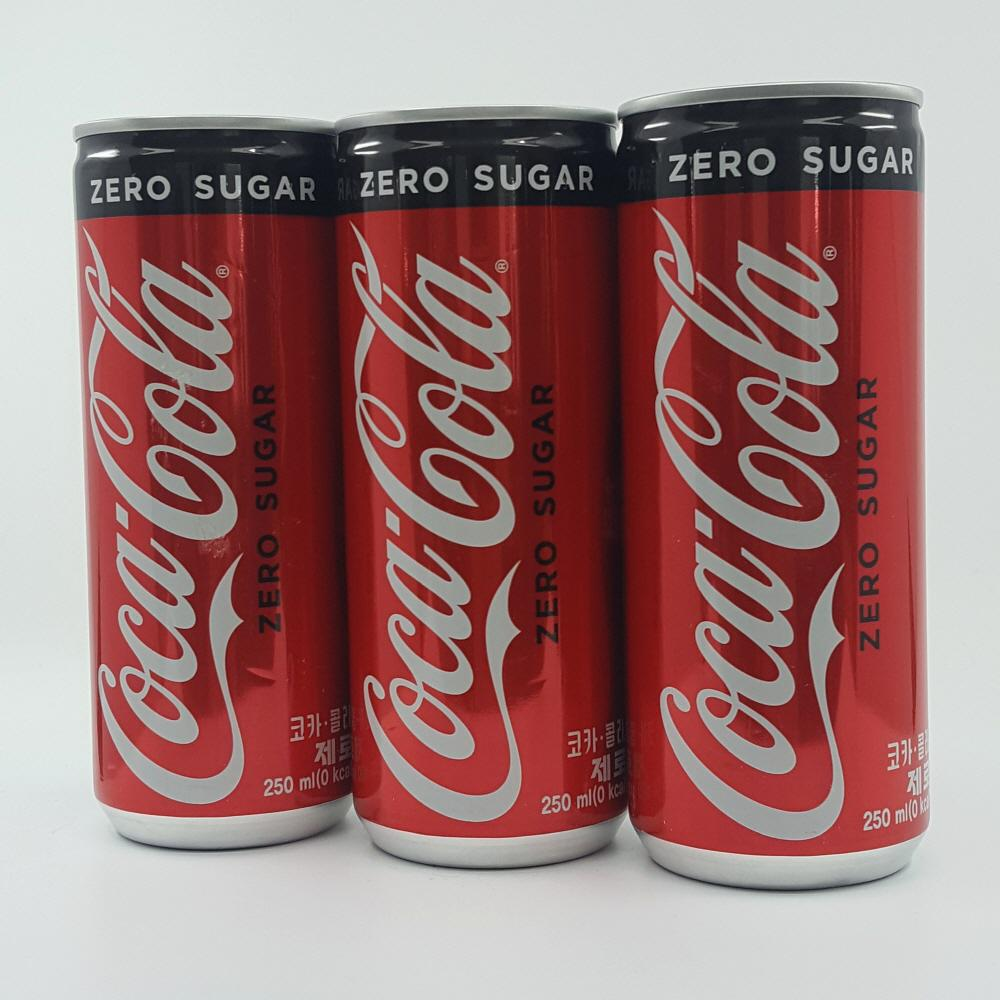cocacola_zero: (616, 83, 937, 895), (326, 103, 628, 875), (65, 110, 354, 867)
